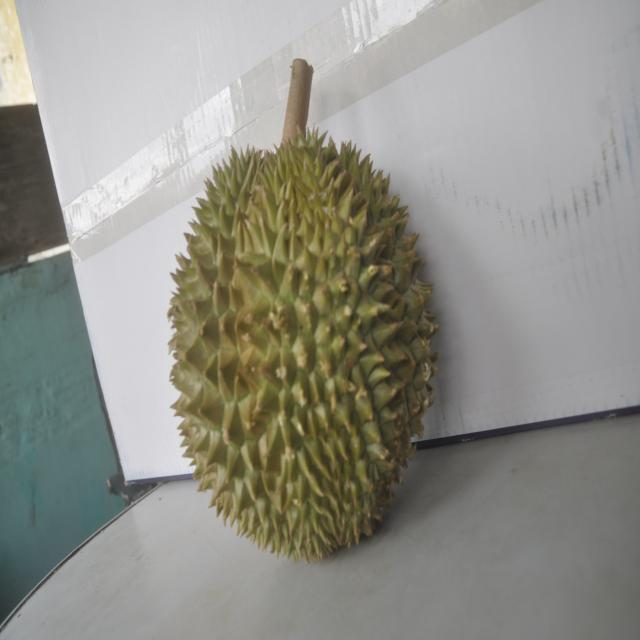mature: (165, 120, 430, 564)
